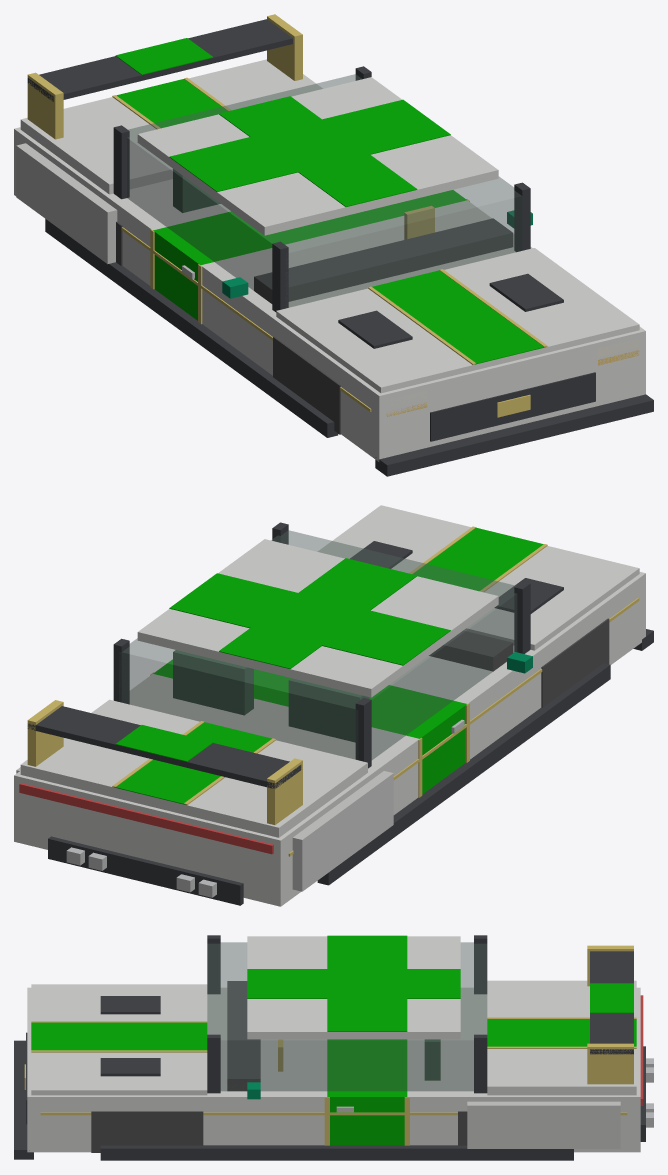
File: green_hand_gt_body.glb
3 renders of one model, top to bottom at view 1: azimuth 30°, elevation 25°; view 2: azimuth 150°, elevation 25°; view 3: azimuth 270°, elevation 25°, orthographic. The views are drawn at different scales.
Visible parts, largest first — view 1: verda_mano_gt; view 2: verda_mano_gt; view 3: verda_mano_gt.
Boxes of the visible parts, box(x1,y1,x2,y2) form: verda_mano_gt: box(14, 14, 653, 476); verda_mano_gt: box(14, 505, 653, 906); verda_mano_gt: box(14, 935, 653, 1160).
Bounding box in the file's own units: 2.2 × 1 × 4.8.
